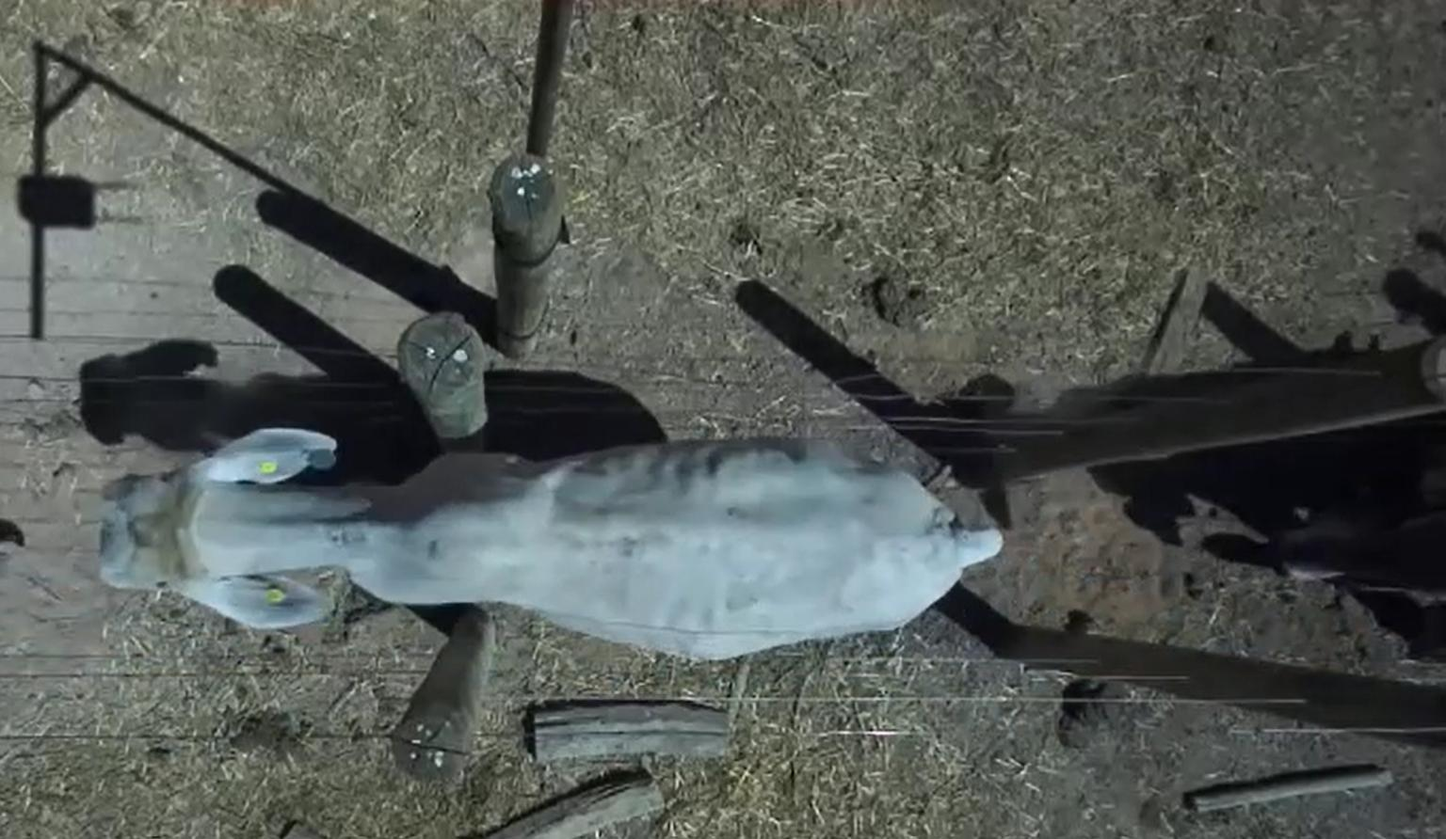cattle: (87, 414, 1015, 666)
